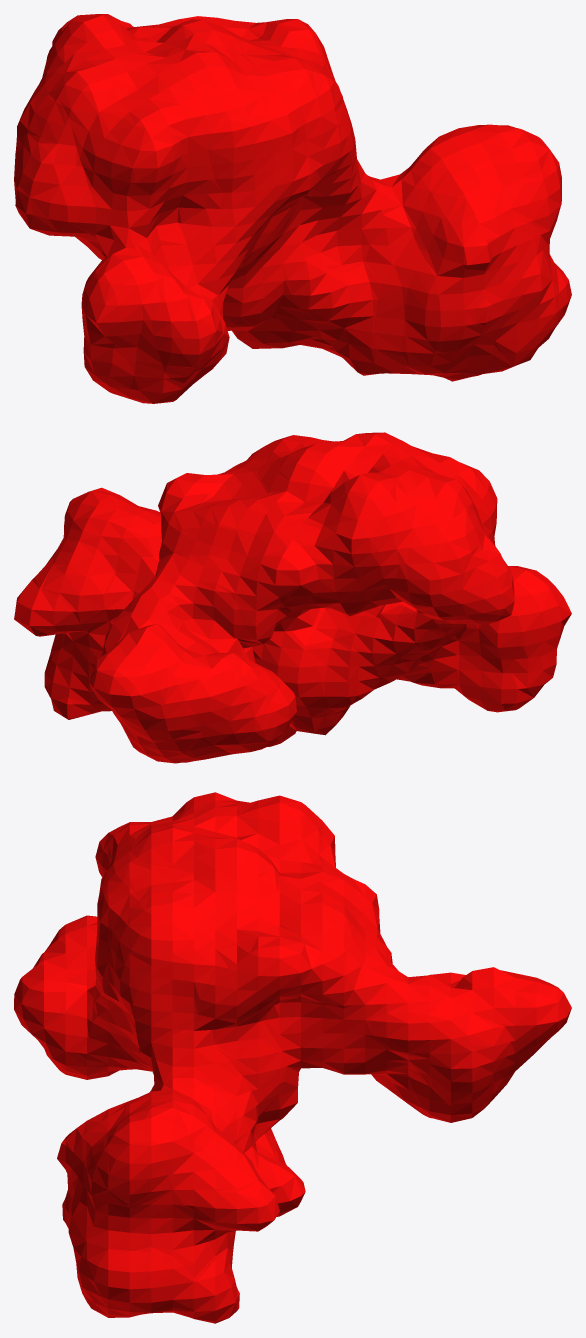
File: asnS_coarse.dae
3 renders of one model, top to bottom at view 1: azimuth 30°, elevation 25°; view 2: azimuth 150°, elevation 25°; view 3: azimuth 270°, elevation 25°, orthographic. The views are drawn at different scales.
Visible parts, largest first — view 1: asnS; view 2: asnS; view 3: asnS.
Part boxes in pixels (bbox=[...]): asnS: bbox=[14, 14, 571, 403]; asnS: bbox=[14, 432, 571, 763]; asnS: bbox=[14, 792, 571, 1323].
Size of the model in its own units: 90.47 by 64.24 by 88.06.
